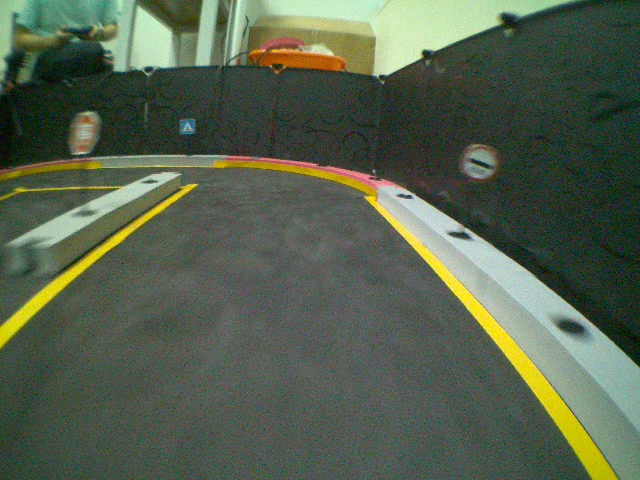Check: (460, 144, 502, 181)
Stop: (66, 110, 100, 156)
crossing: (179, 117, 196, 135)
